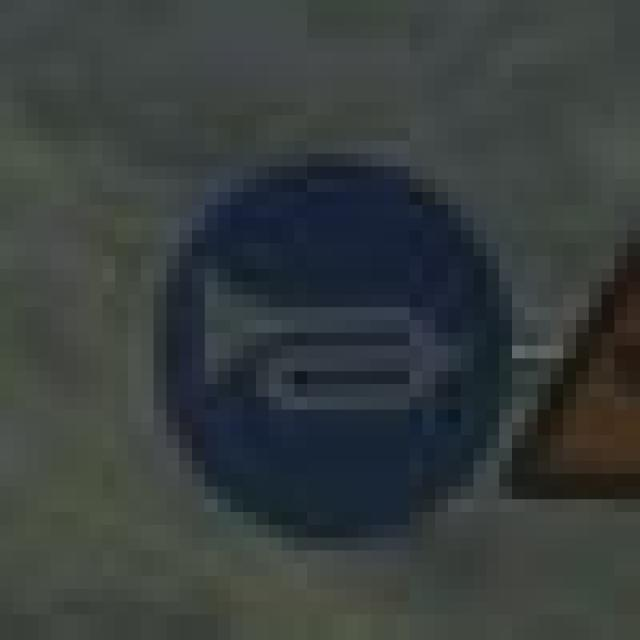compulsory_min_speed: (115, 128, 525, 538)
